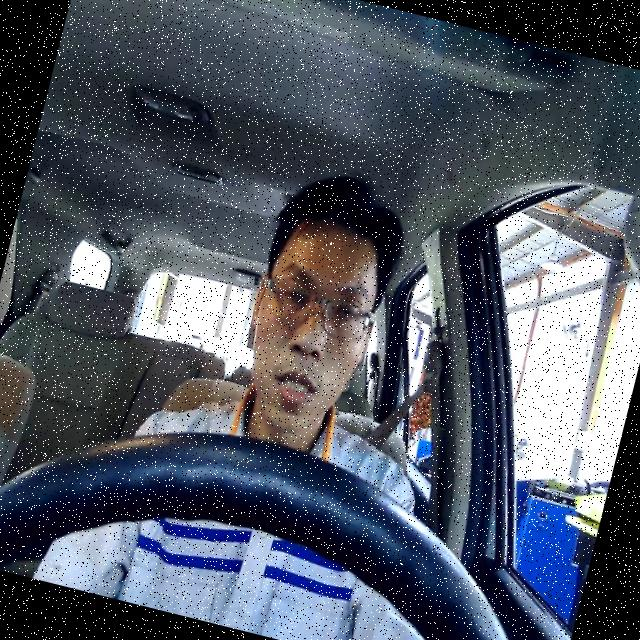focused: (224, 208, 396, 447)
